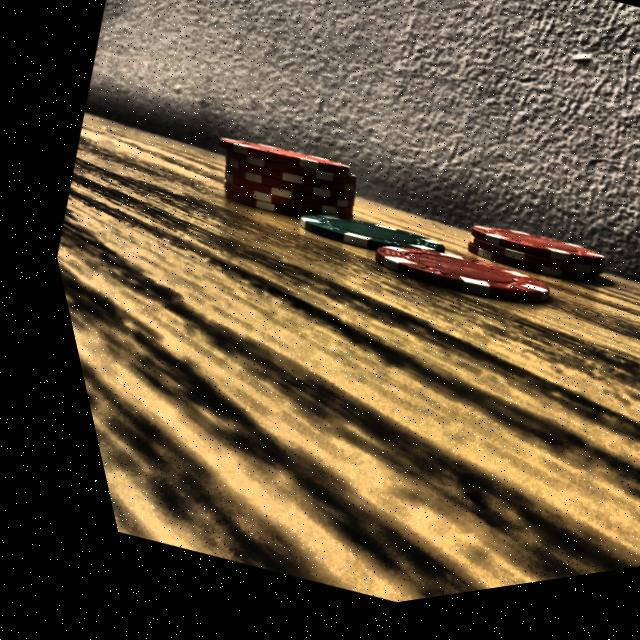Chip: (163, 103, 382, 271), (336, 215, 552, 369), (435, 199, 623, 330), (273, 185, 451, 303)
